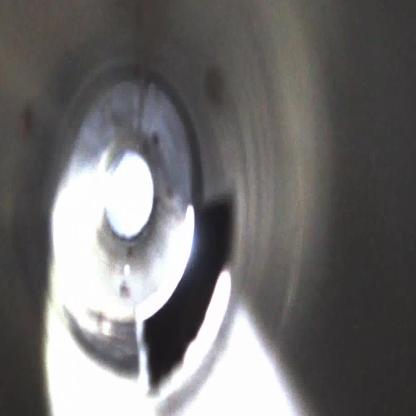Crack2: (139, 188, 243, 399)
